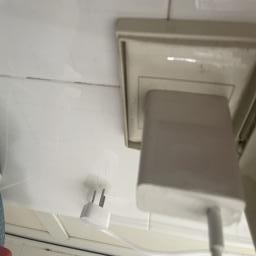outlet: (114, 18, 256, 157)
